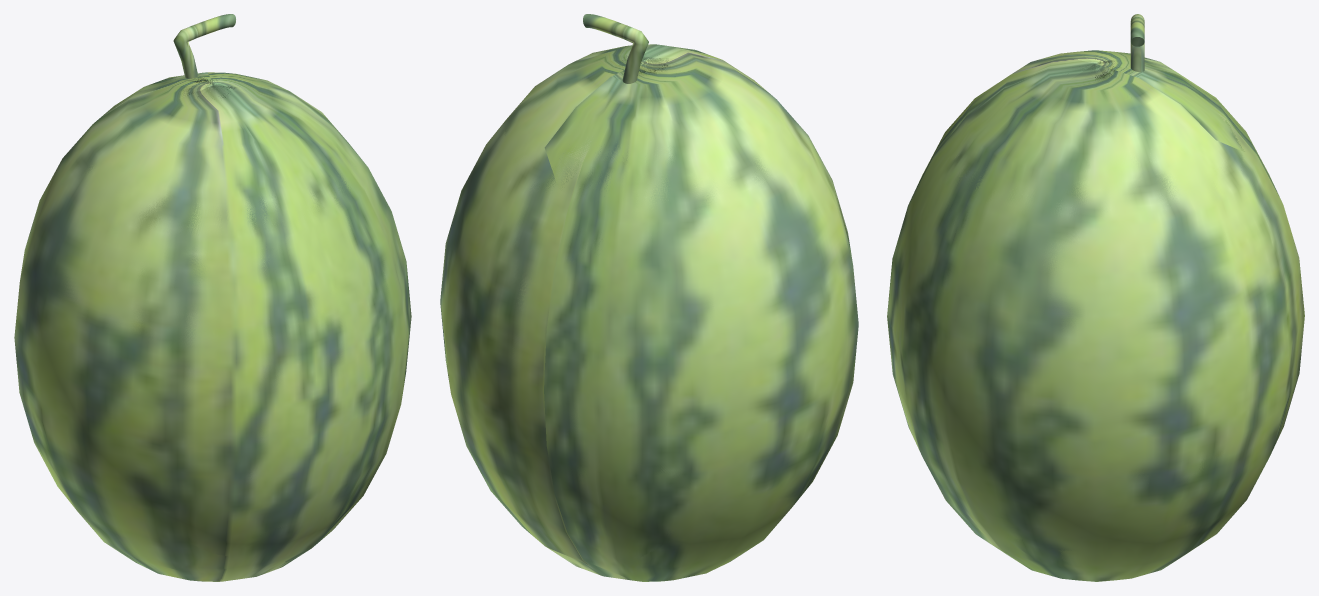
The model's file is xigua1.FBX.
3 views of the same model, side by side, from view 1: azimuth 30°, elevation 25°; view 2: azimuth 150°, elevation 25°; view 3: azimuth 270°, elevation 25° (orthographic). The views are drawn at different scales.
Parts seen in each view (by area): view 1: Ellipse001, Loft002; view 2: Ellipse001, Loft002; view 3: Ellipse001, Loft002.
Part boxes in pixels (bbox=[...]): Ellipse001: bbox=[14, 72, 411, 581]; Loft002: bbox=[173, 14, 235, 78]; Ellipse001: bbox=[440, 44, 858, 581]; Loft002: bbox=[583, 14, 648, 83]; Ellipse001: bbox=[887, 50, 1304, 581]; Loft002: bbox=[1130, 14, 1144, 71].
Size of the model in its own units: 180 by 263 by 180.
